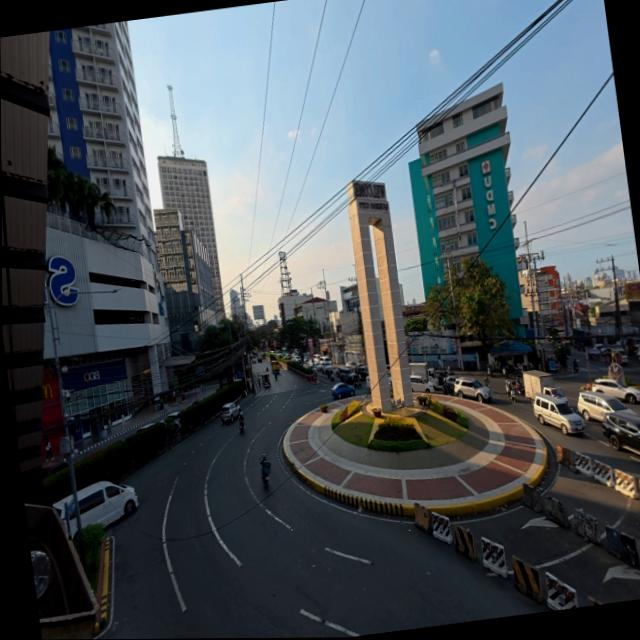Jeepneys: (260, 373, 270, 388)
car: (533, 394, 583, 435), (577, 391, 636, 421), (602, 412, 639, 454), (591, 379, 639, 404), (453, 378, 491, 402), (409, 375, 433, 394), (219, 402, 239, 424), (543, 386, 567, 403), (331, 383, 354, 400), (160, 412, 180, 430), (335, 367, 354, 383), (441, 375, 456, 394), (611, 348, 627, 365), (134, 422, 154, 433), (356, 363, 368, 376), (364, 375, 371, 391), (345, 361, 356, 370), (594, 344, 605, 353), (313, 362, 322, 373), (292, 355, 301, 363)
motorcycle: (261, 460, 270, 487), (442, 381, 453, 395), (486, 364, 498, 376), (238, 415, 246, 433), (514, 380, 523, 395), (507, 386, 515, 402), (352, 375, 361, 387), (483, 374, 490, 387), (572, 361, 578, 373)
trucks: (522, 370, 553, 401), (409, 363, 445, 384), (256, 351, 262, 362)
vans: (78, 481, 138, 525), (270, 358, 279, 373), (322, 357, 331, 367), (251, 356, 256, 363)
